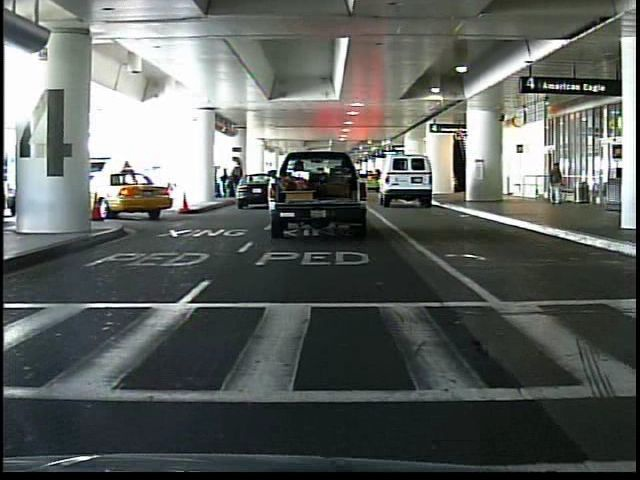person: (545, 158, 566, 210)
